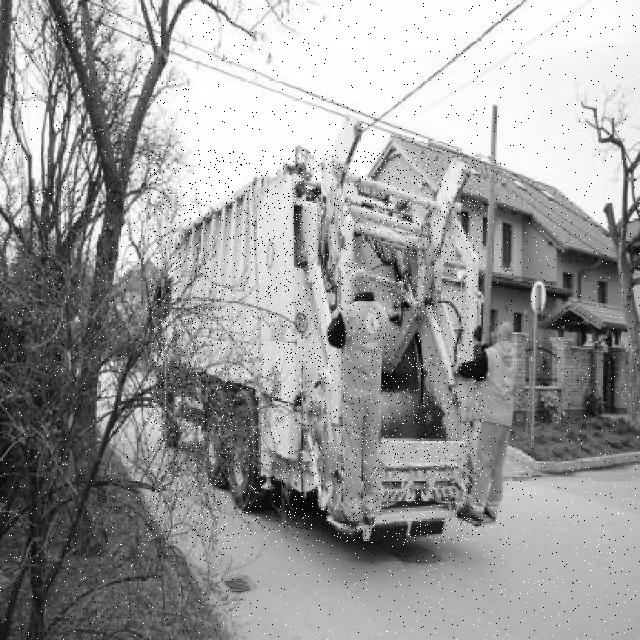Garbage Truck: (148, 150, 484, 543)
